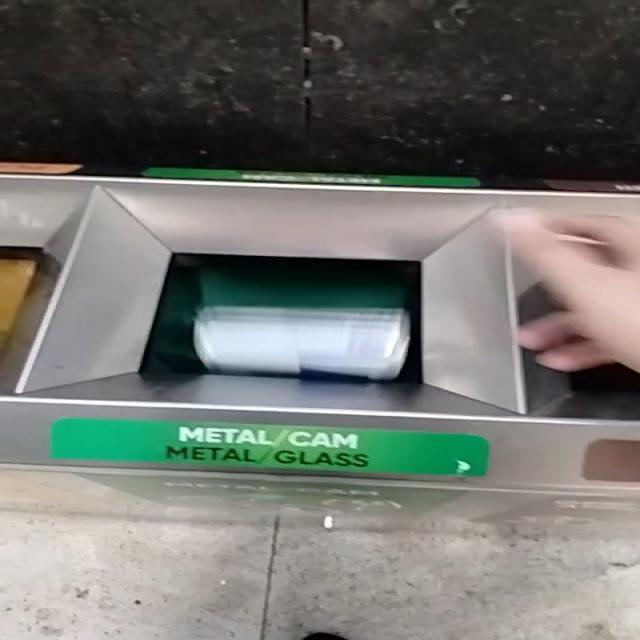Bin: (1, 176, 640, 492)
Metal: (193, 307, 411, 380)
